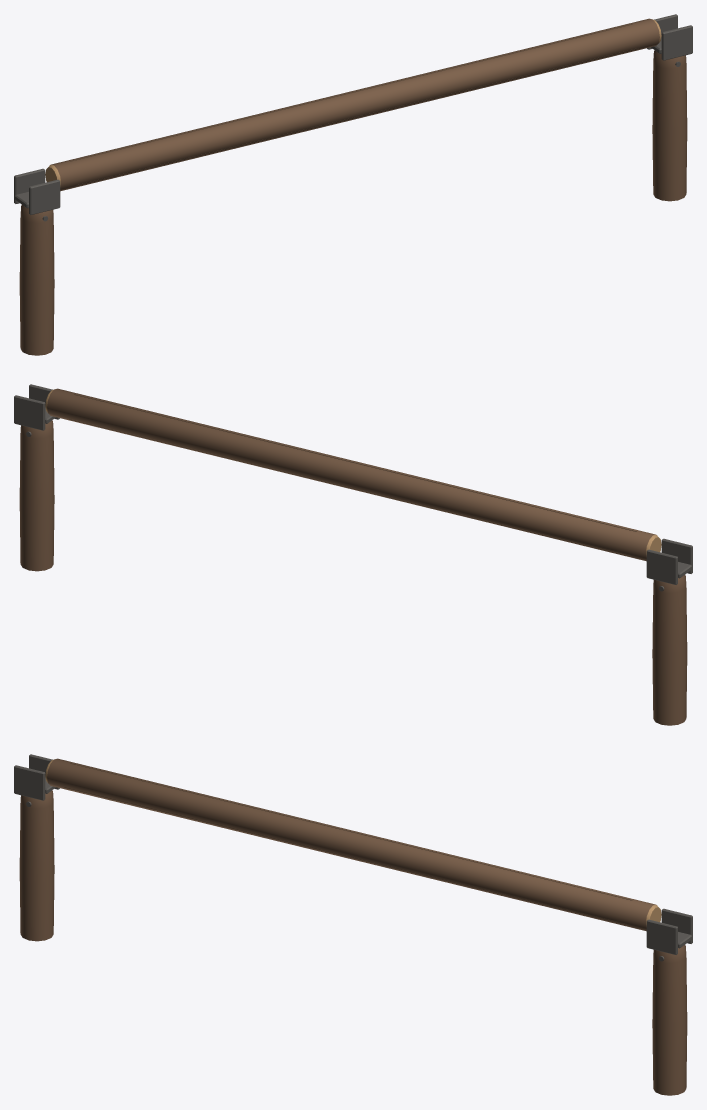
File: timberRail.glb
3 renders of one model, top to bottom at view 1: azimuth 30°, elevation 25°; view 2: azimuth 150°, elevation 25°; view 3: azimuth 330°, elevation 25°, orthographic.
Visible parts, largest first — view 1: timberRail.native.L0.timberBeam.beam.0, timberRail.native.L0.timberPost.end.post.0, timberRail.native.L0.timberPost.start.post.0, timberRail.native.L0.timberPost.start.post.saddle.1, timberRail.native.L0.timberPost.end.post.saddle.1; view 2: timberRail.native.L0.timberBeam.beam.0, timberRail.native.L0.timberPost.end.post.0, timberRail.native.L0.timberPost.start.post.0, timberRail.native.L0.timberPost.start.post.saddle.1, timberRail.native.L0.timberPost.end.post.saddle.1; view 3: timberRail.native.L0.timberBeam.beam.0, timberRail.native.L0.timberPost.start.post.0, timberRail.native.L0.timberPost.end.post.0, timberRail.native.L0.timberPost.end.post.saddle.1, timberRail.native.L0.timberPost.start.post.saddle.1.
Part boxes in pixels (x1,y1,x2,y2): timberRail.native.L0.timberBeam.beam.0: (45, 18, 661, 191); timberRail.native.L0.timberPost.end.post.0: (652, 50, 687, 201); timberRail.native.L0.timberPost.start.post.0: (19, 205, 54, 355); timberRail.native.L0.timberPost.start.post.saddle.1: (14, 168, 60, 221); timberRail.native.L0.timberPost.end.post.saddle.1: (647, 14, 692, 66); timberRail.native.L0.timberBeam.beam.0: (45, 388, 661, 561); timberRail.native.L0.timberPost.end.post.0: (19, 420, 54, 571); timberRail.native.L0.timberPost.start.post.0: (652, 575, 687, 725); timberRail.native.L0.timberPost.start.post.saddle.1: (646, 538, 692, 591); timberRail.native.L0.timberPost.end.post.saddle.1: (14, 384, 59, 436); timberRail.native.L0.timberBeam.beam.0: (45, 758, 661, 931); timberRail.native.L0.timberPost.start.post.0: (19, 790, 54, 941); timberRail.native.L0.timberPost.end.post.0: (652, 945, 687, 1095); timberRail.native.L0.timberPost.end.post.saddle.1: (646, 908, 692, 961); timberRail.native.L0.timberPost.start.post.saddle.1: (14, 754, 59, 806).
Size of the model in its own units: 4.63 by 1.19 by 0.21.
